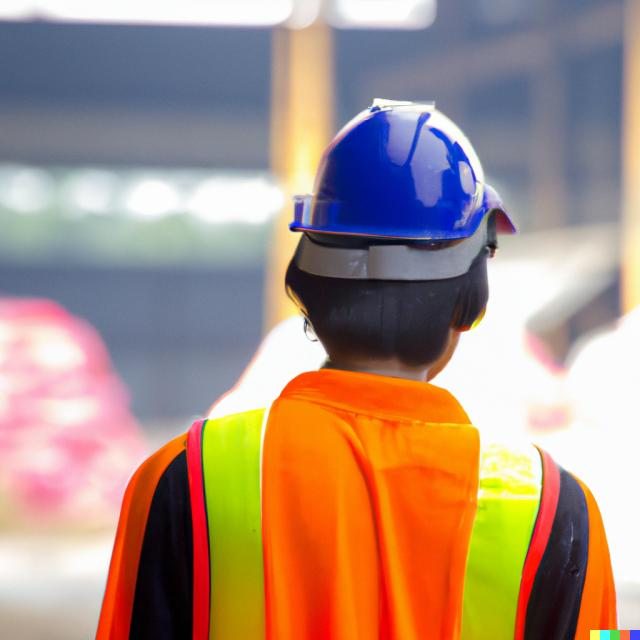Reflective-Jacket: (94, 382, 628, 637)
Safety-Helmet: (286, 97, 492, 247)
